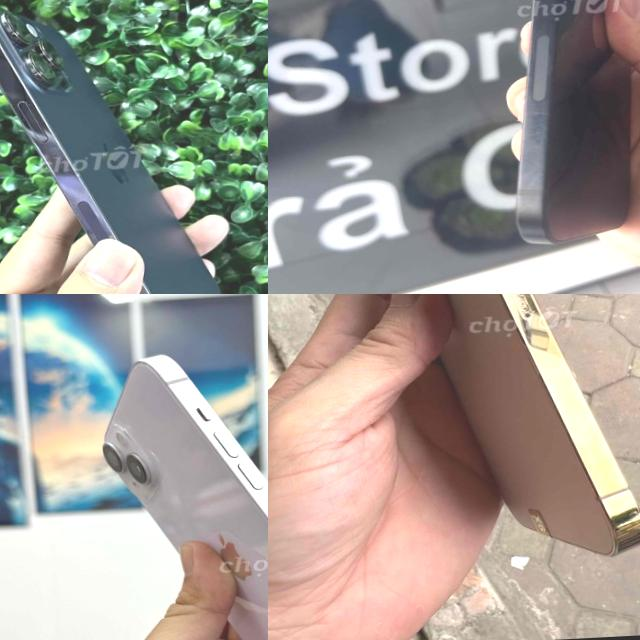gen_12_13: (328, 294, 640, 578)
gen_14: (0, 0, 252, 294), (85, 328, 268, 640), (482, 0, 640, 250)
